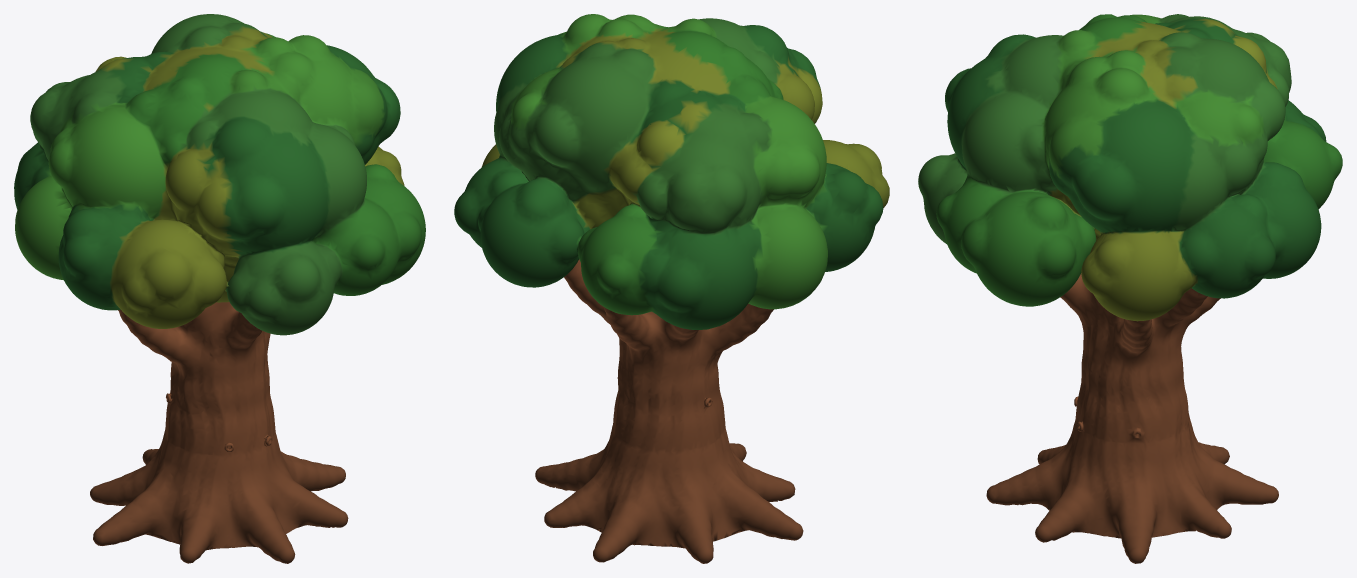
File: arvore_carvalho.glb
3 renders of one model, left to right at view 1: azimuth 30°, elevation 25°; view 2: azimuth 150°, elevation 25°; view 3: azimuth 270°, elevation 25°, orthographic. The views are drawn at different scales.
Visible parts, largest first — view 1: copa, tronco; view 2: copa, tronco; view 3: copa, tronco.
Boxes of the visible parts, left/top/right/bottom form: copa: left=14, top=14, right=425, bottom=335; tronco: left=90, top=302, right=348, bottom=563; copa: left=454, top=14, right=889, bottom=329; tronco: left=535, top=259, right=803, bottom=563; copa: left=918, top=14, right=1342, bottom=321; tronco: left=986, top=273, right=1278, bottom=563.
Size of the model in its own units: 4.15 by 5.17 by 4.18.
